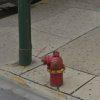Hydrant: (39, 46, 71, 88)
